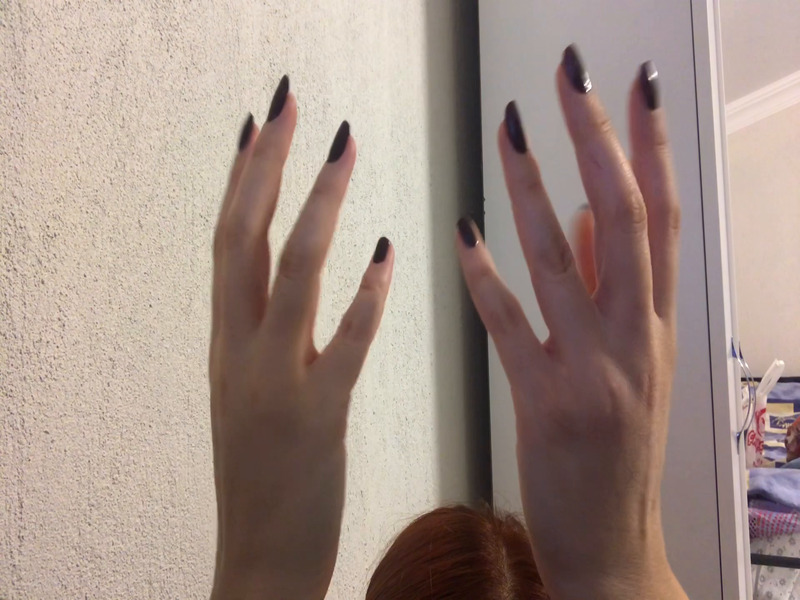hand: (449, 41, 691, 563), (194, 65, 401, 546)
